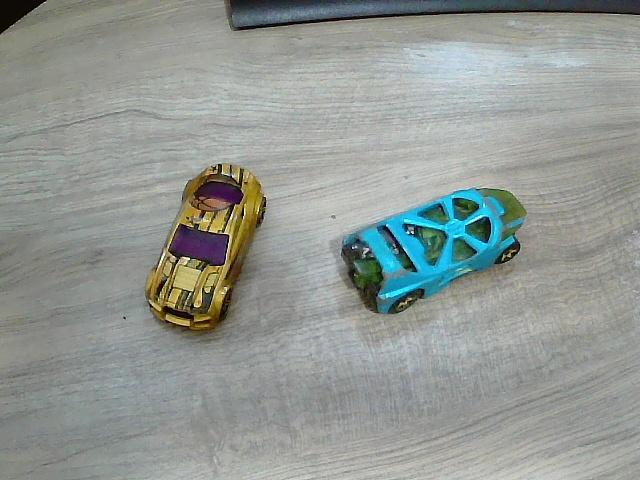Carro: (336, 188, 528, 317), (145, 163, 267, 333)
